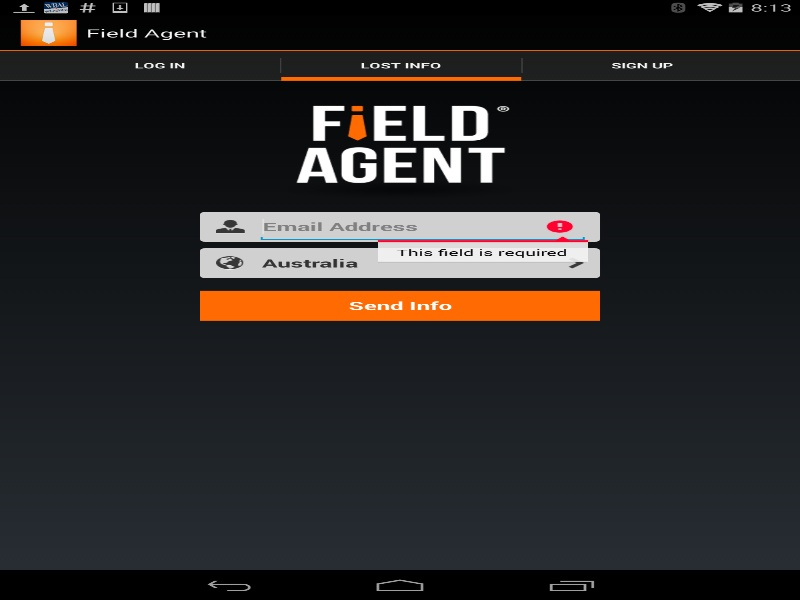Button: (200, 248, 600, 278), (200, 290, 600, 320)
Input: (256, 211, 589, 241)
